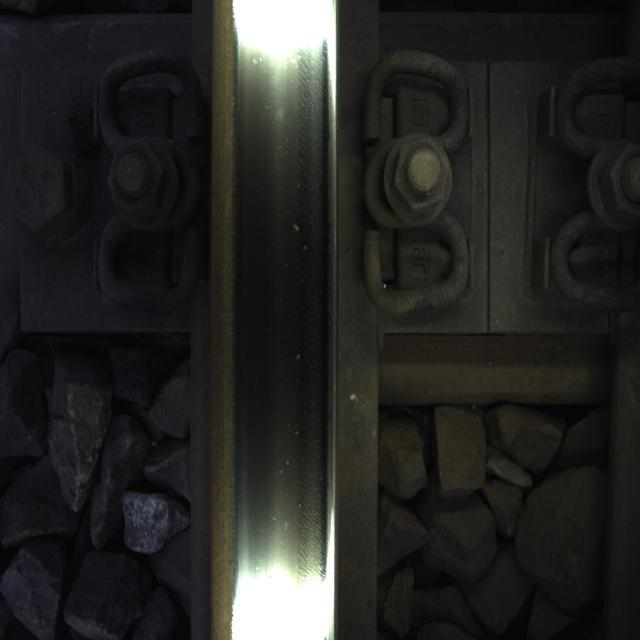break: (241, 36, 330, 575)
